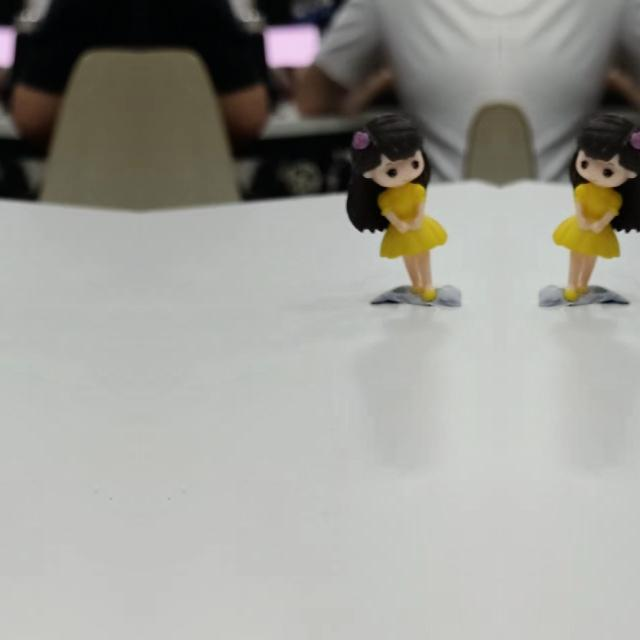woman head: (343, 113, 427, 187), (573, 113, 640, 187)
